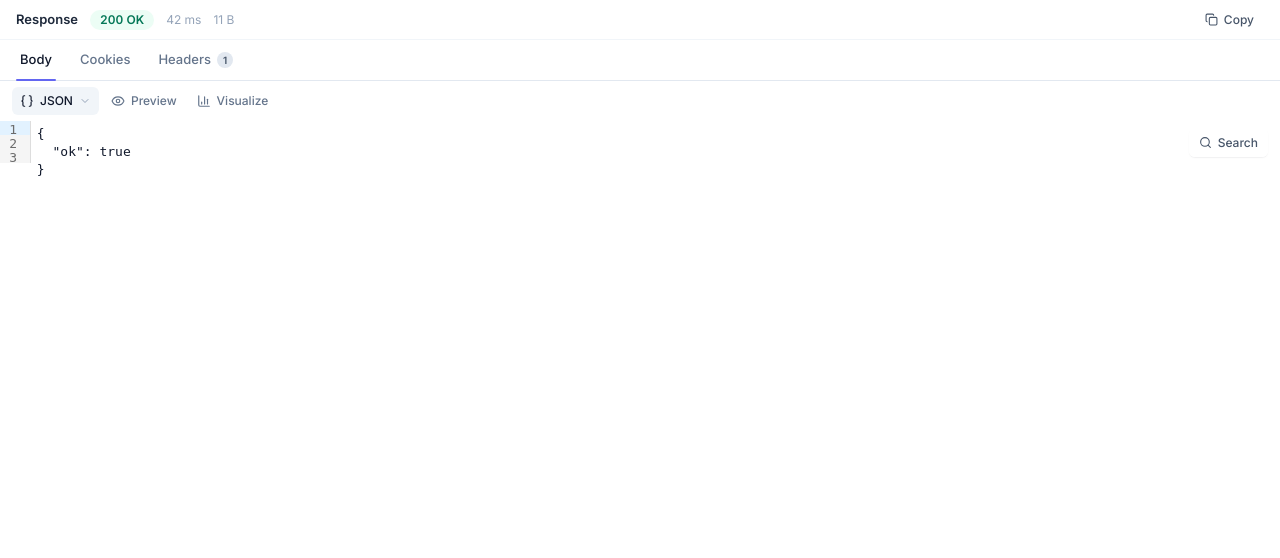
Test: ResponseViewer › says there's nothing to preview for a plain JSON response
Click the button "Preview" at (144, 100), box left=103, top=86, right=185, bottom=114
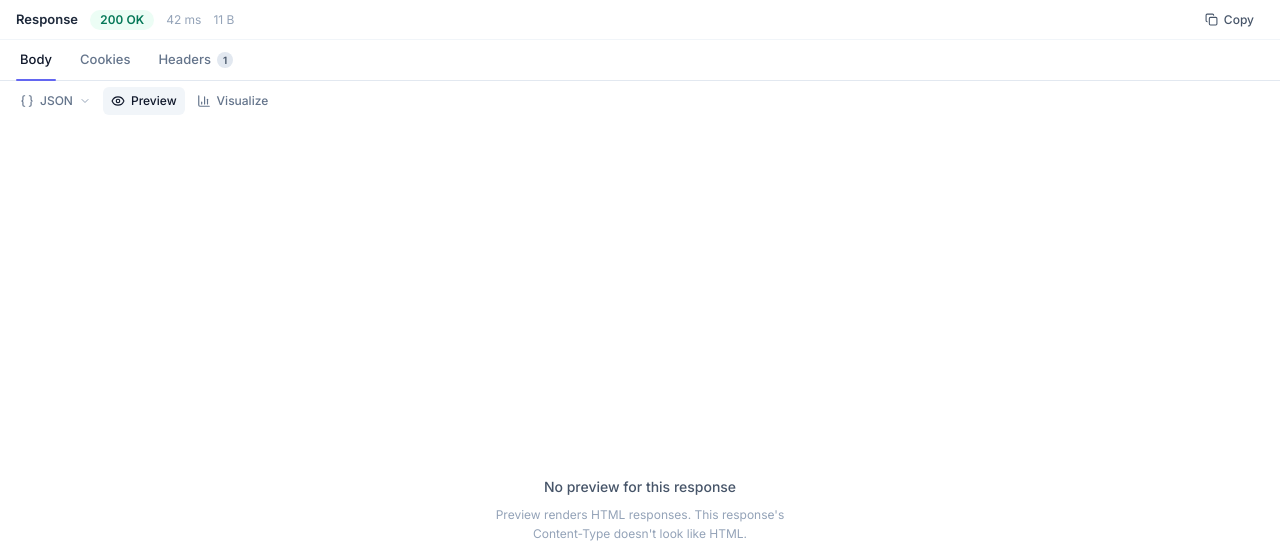
Expected: the text "No preview for this response" is shown, left=544, top=477, right=736, bottom=497
